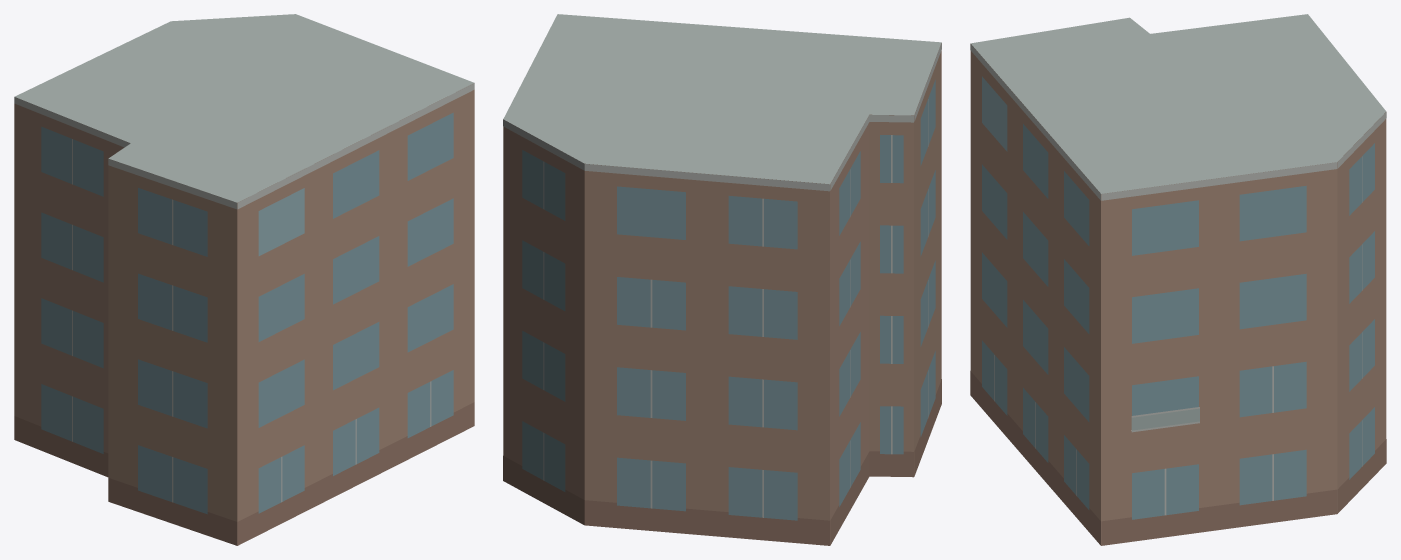
Rendered from survey-upis-32622421.glb.
The picture shows the model from 3 angles, left to right: view 1: azimuth 30°, elevation 25°; view 2: azimuth 150°, elevation 25°; view 3: azimuth 270°, elevation 25°; orthographic projection. The views are drawn at different scales.
Visible parts, largest first — view 1: survey-upis-32622421.tmp; view 2: survey-upis-32622421.tmp; view 3: survey-upis-32622421.tmp.
Boxes of the visible parts, x1=… form: survey-upis-32622421.tmp: x1=14, y1=14, x2=474, y2=545; survey-upis-32622421.tmp: x1=503, y1=14, x2=941, y2=545; survey-upis-32622421.tmp: x1=970, y1=14, x2=1386, y2=545.
Size of the model in its own units: 13.6 by 12.4 by 13.29.
